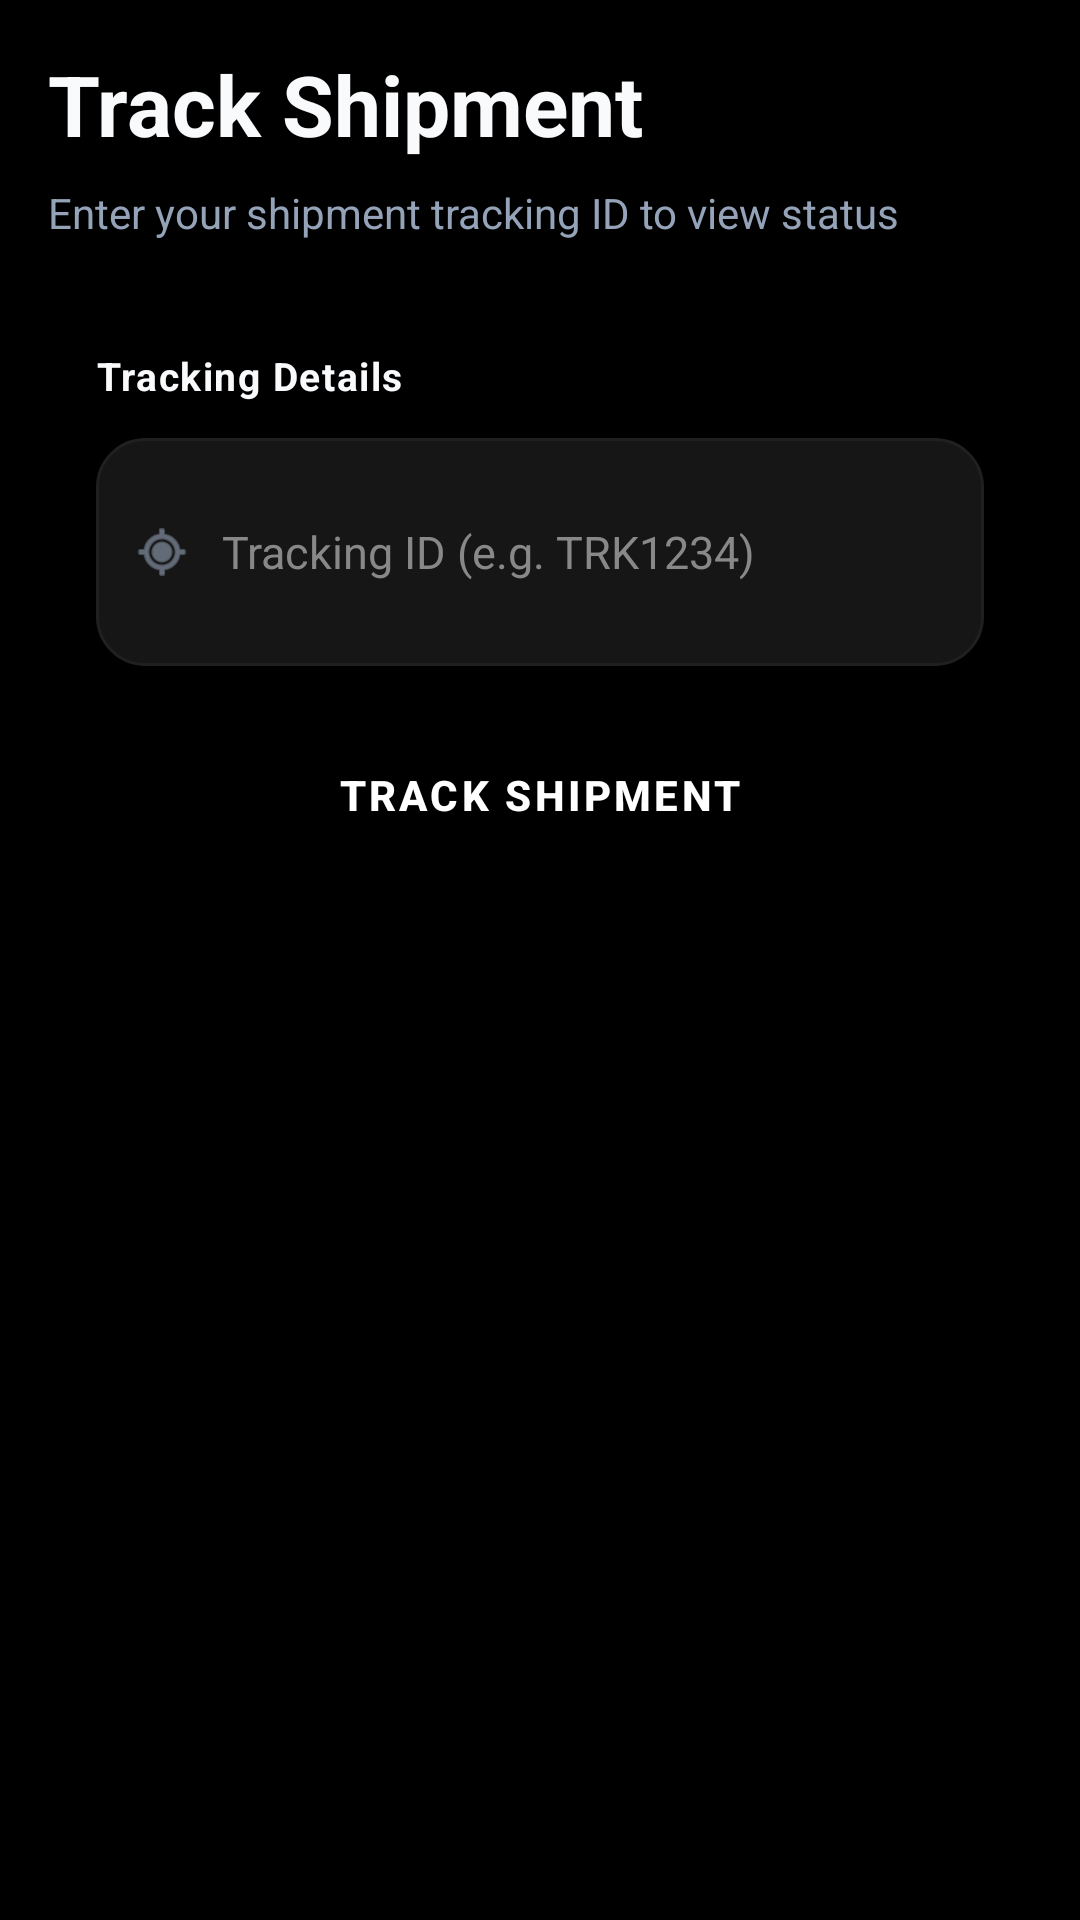

Icons on this 1080px×1920px Android screen, each with its box as (x1, y1, x2, y2):
mylocation: (138, 528, 186, 576)
